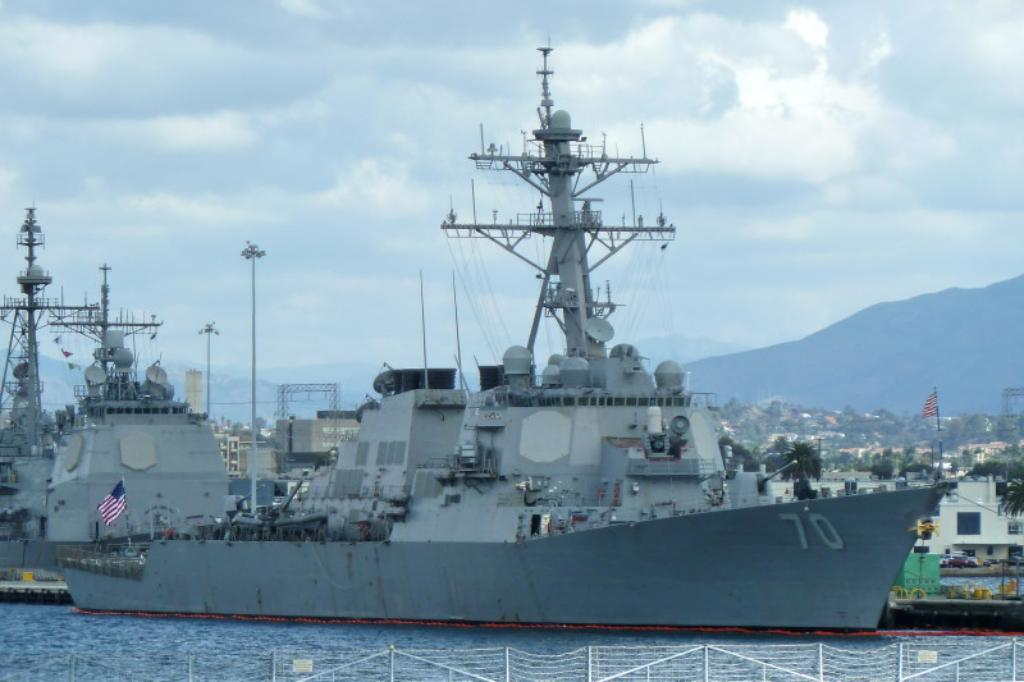Warship: (40, 38, 958, 634), (0, 190, 260, 590)
